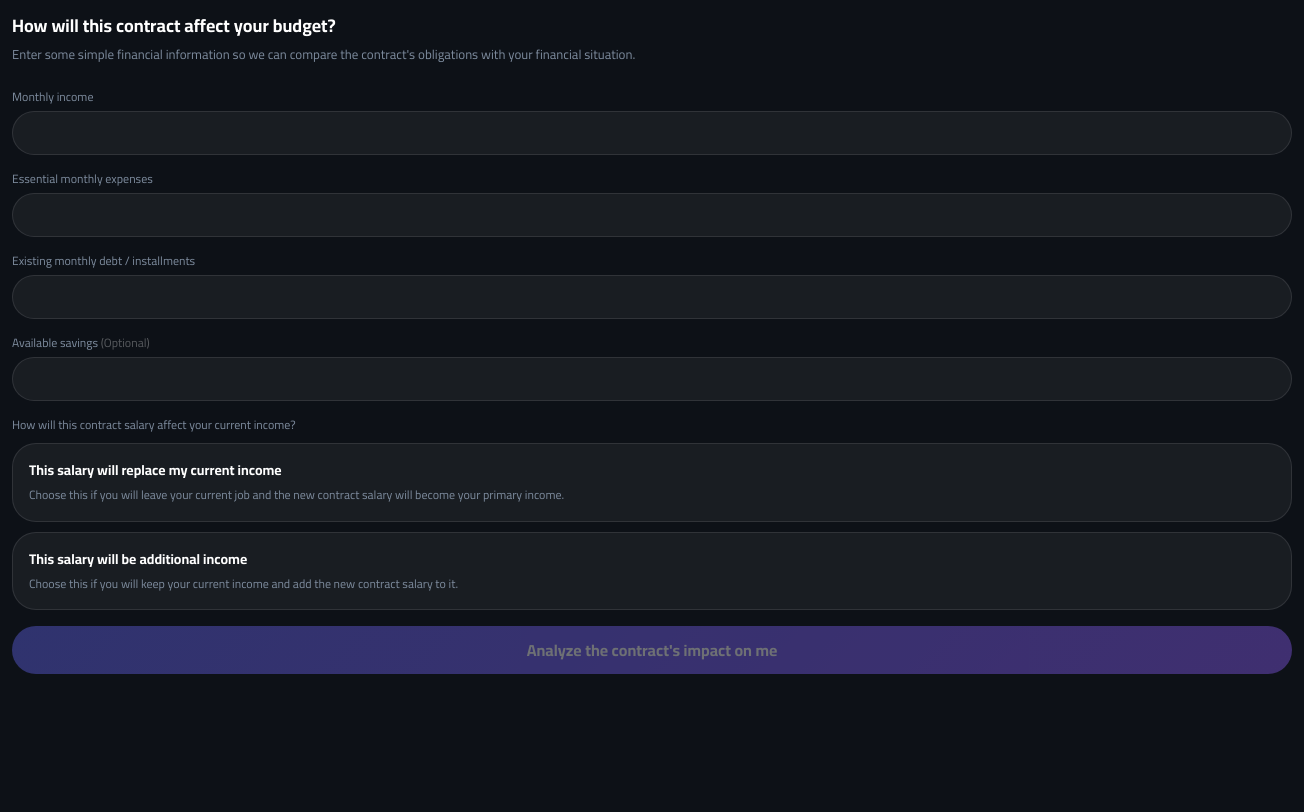
Test case: FinancialAnalysisTab — employment income-mode flow › keeps the submit button disabled until a mode is selected, even with all three base inputs filled
Step 1. Type "10000" into the number field with test id "input-monthly-income" → (652, 133), box [12,111,1292,155]
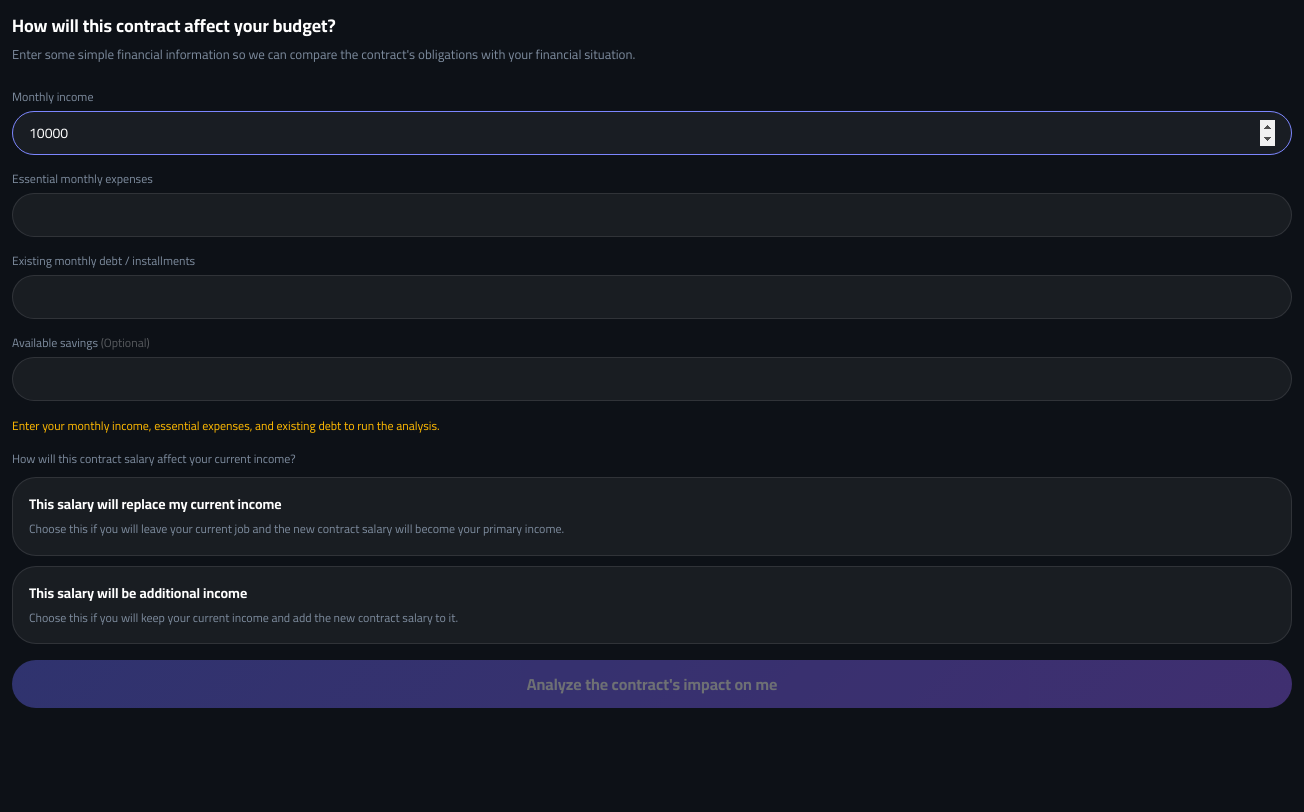
Step 2. Type "4000" into the number field with test id "input-essential-expenses" → (652, 215), box [12,193,1292,237]
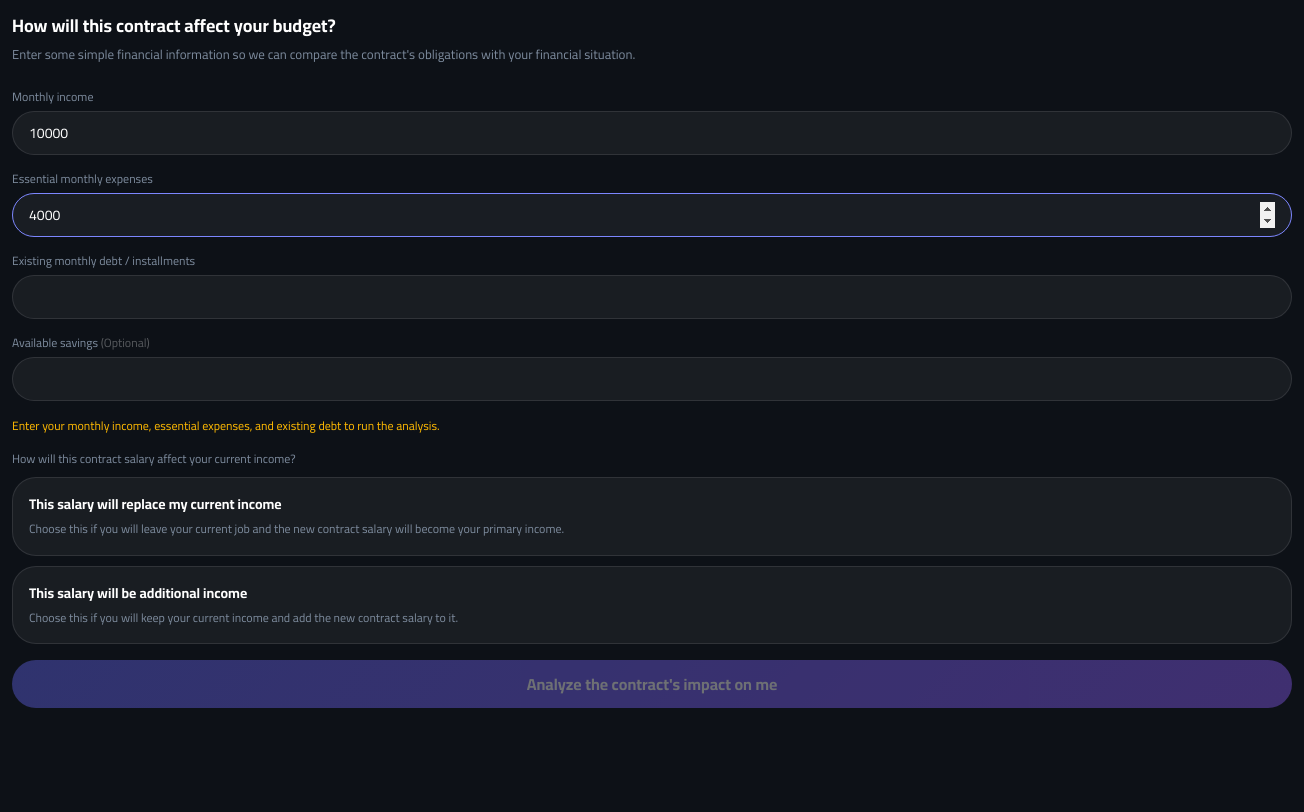
Step 3. Type "1000" into the number field with test id "input-existing-debt" → (652, 297), box [12,275,1292,319]
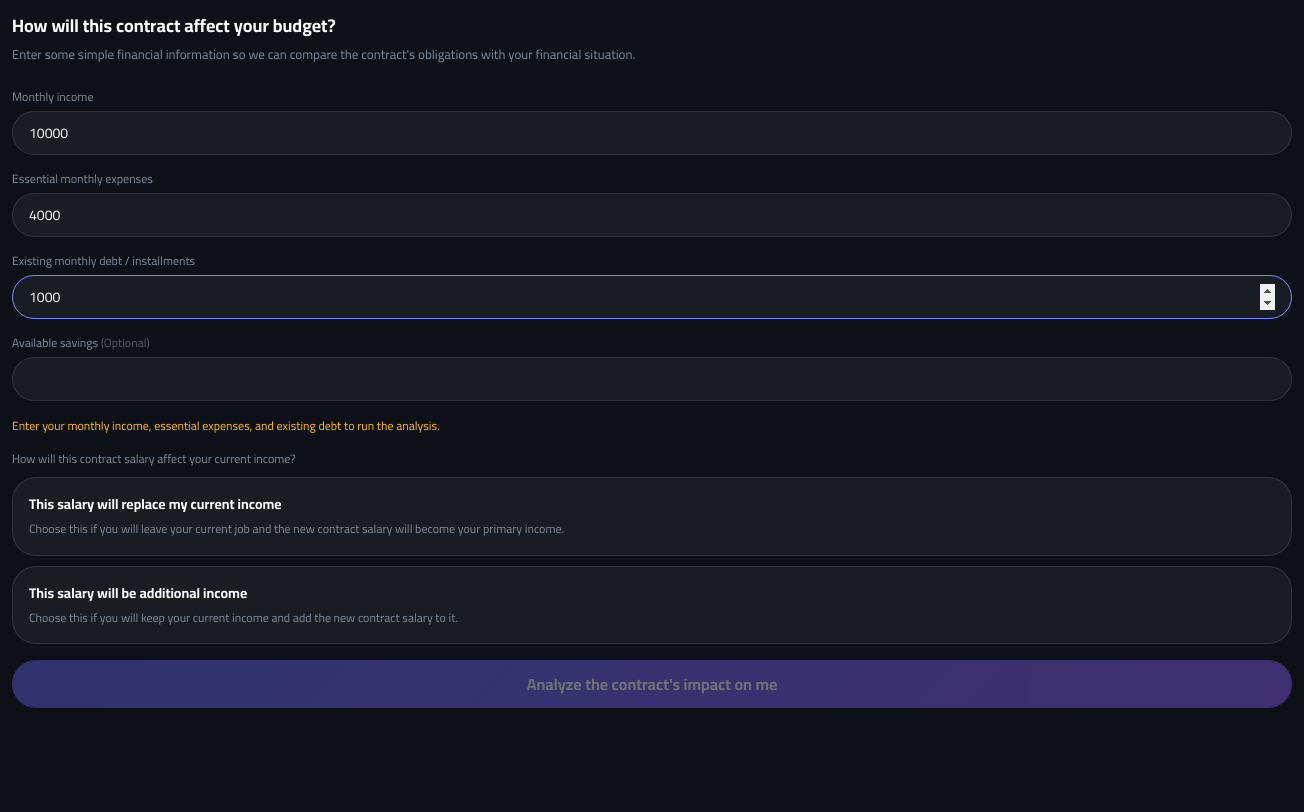
Expected: the button with test id "button-submit-budget-impact" is disabled, [12,660,1292,708]
Step 4. Click the button with test id "option-employment-mode-replace" → (155, 504), box [12,477,1292,556]
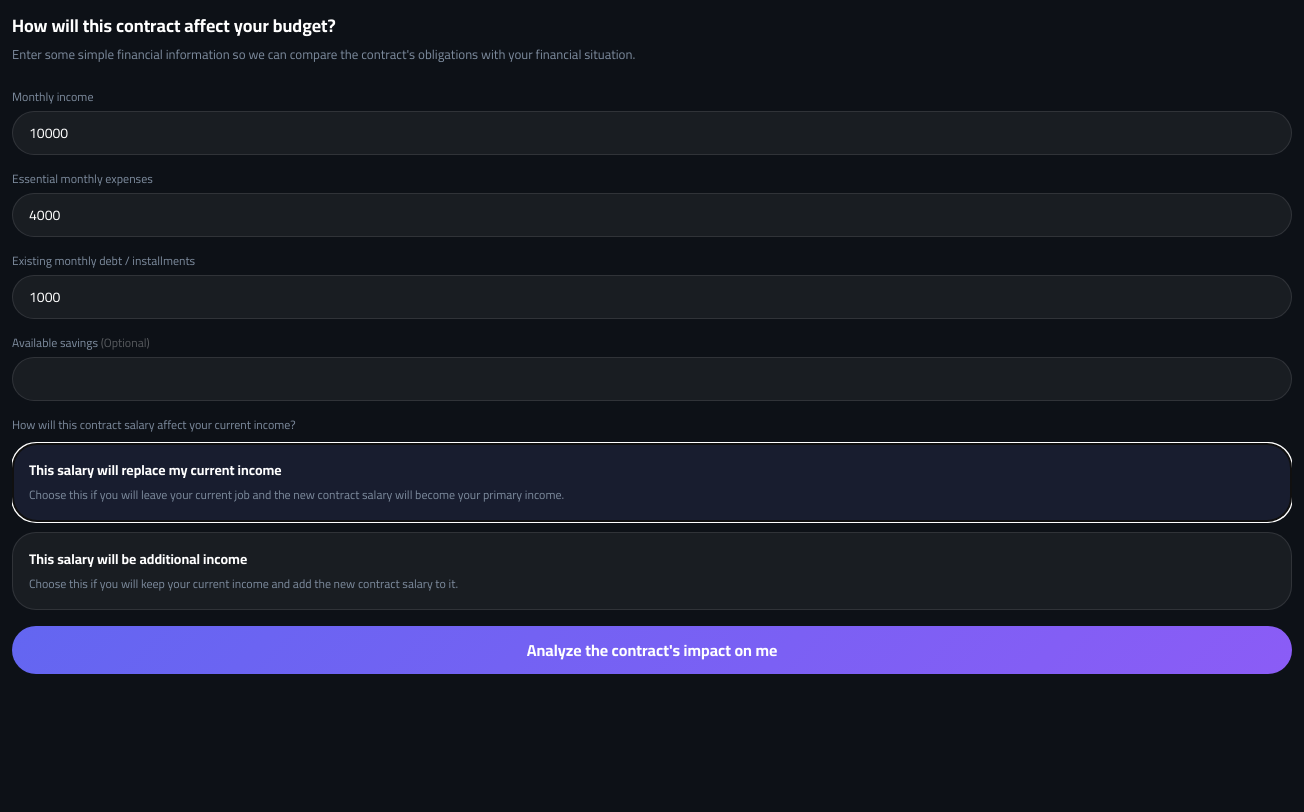
Now the button with test id "button-submit-budget-impact" is enabled, box [12,626,1292,674]
